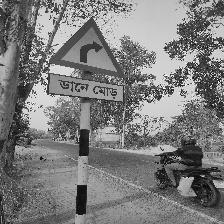Right-turn: (47, 16, 126, 103)
